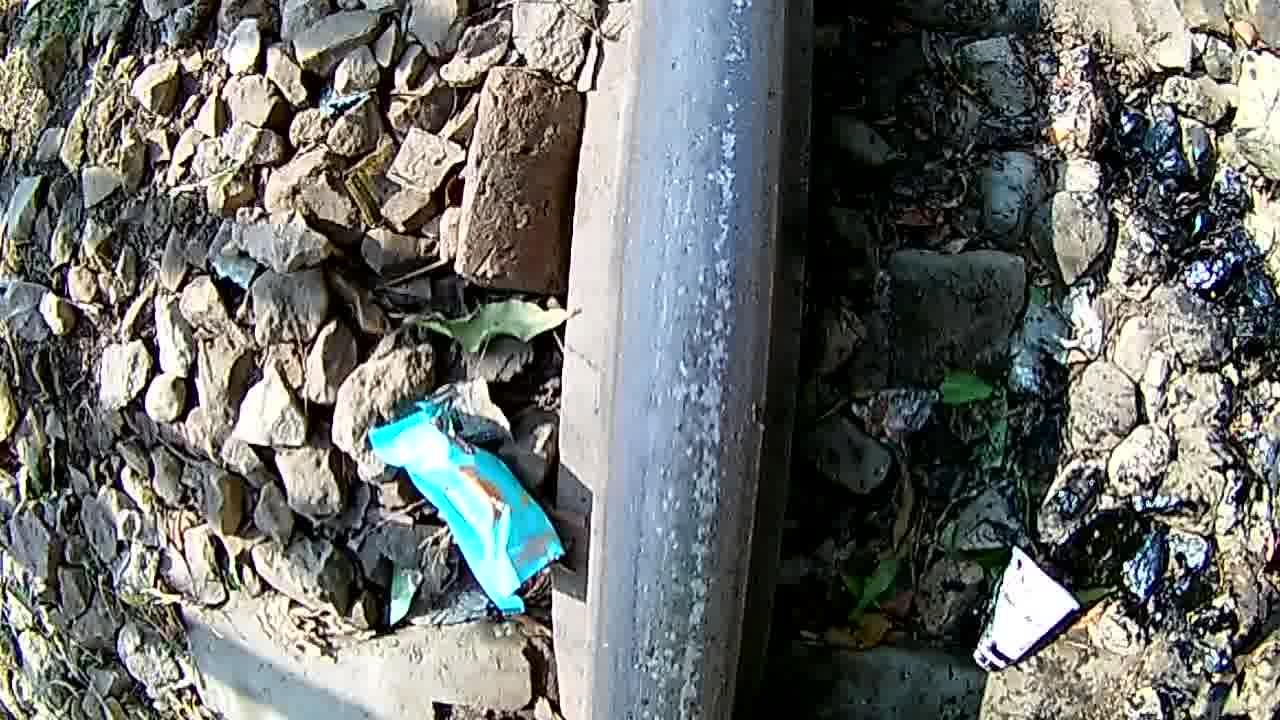clip_missing: (602, 1, 805, 720)
